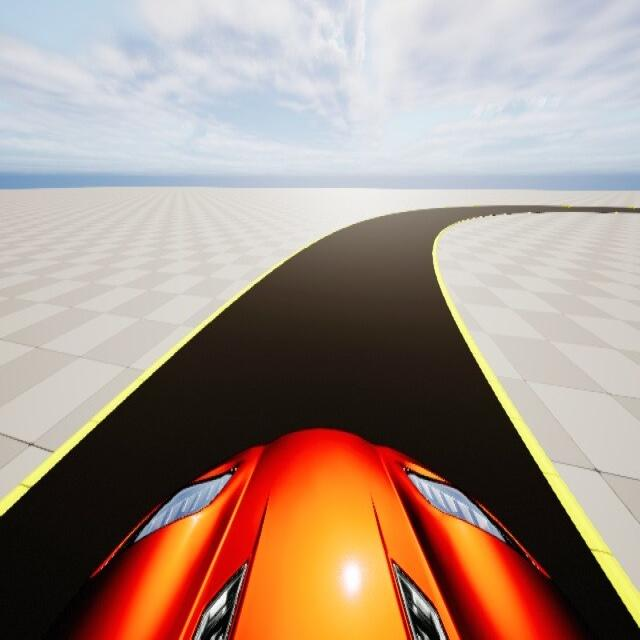lane: (0, 207, 639, 639)
